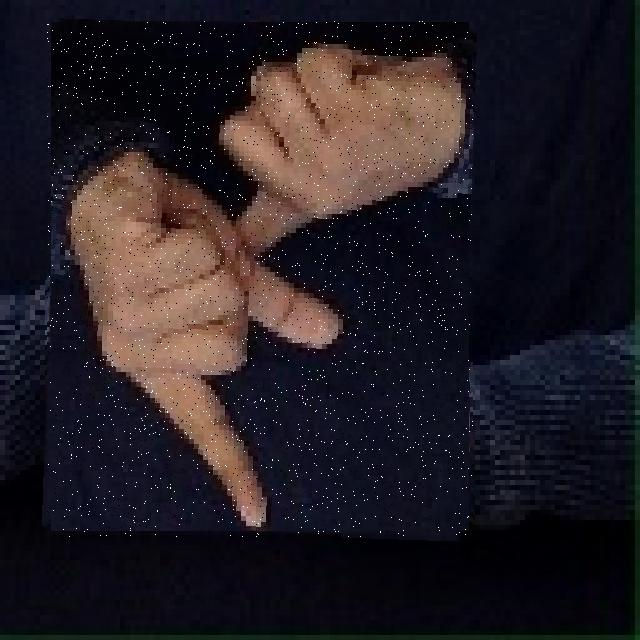Y: (47, 21, 473, 538)
